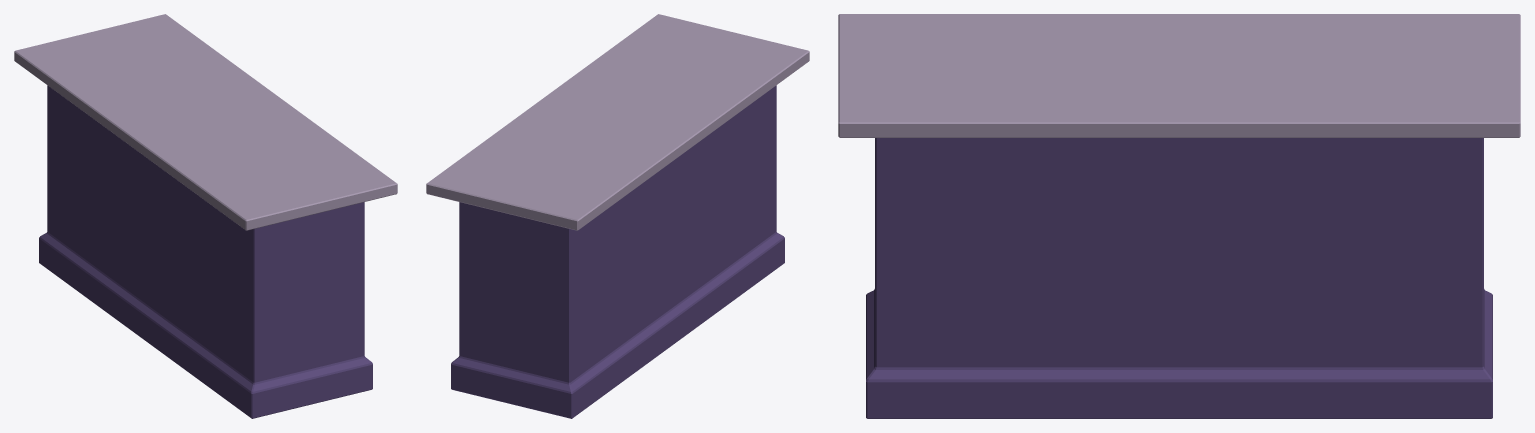
The model's file is Counter.fbx.
3 views of the same model, side by side, from view 1: azimuth 30°, elevation 25°; view 2: azimuth 150°, elevation 25°; view 3: azimuth 270°, elevation 25° (orthographic). The views are drawn at different scales.
Visible parts, largest first — view 1: Counter; view 2: Counter; view 3: Counter.
Part boxes in pixels (<box>): Counter: <box>14,14,397,418</box>; Counter: <box>426,14,809,418</box>; Counter: <box>838,14,1520,418</box>.
Size of the model in its own units: 0.8484 by 1.12 by 2.24.
